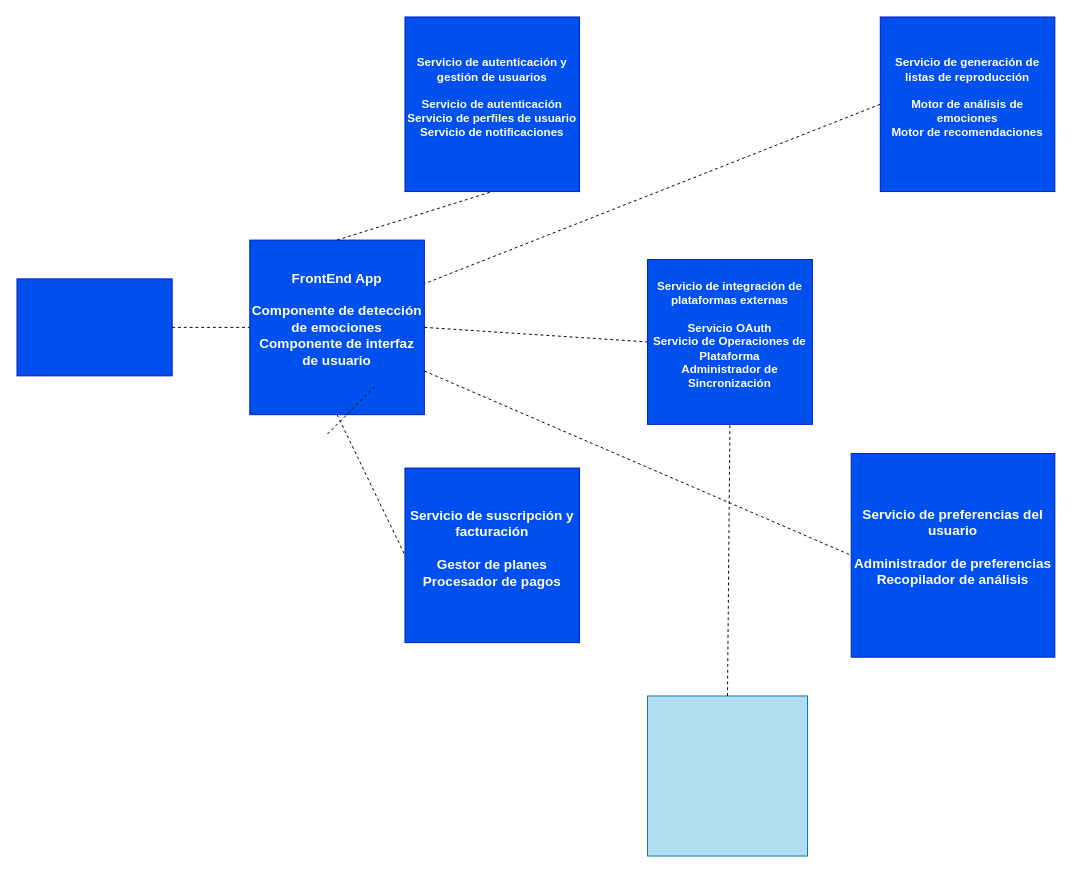
The diagram is 1072 pixels wide and 873 high, and some of its shapes have lost their labels. Each missing label, with the centre of its shape:
APP LYRA Detecta emoción y genera playlist: the point at 94,327
Servicios Externos Spotify API Apple Music API Stripe/PayPal: the point at 727,775
